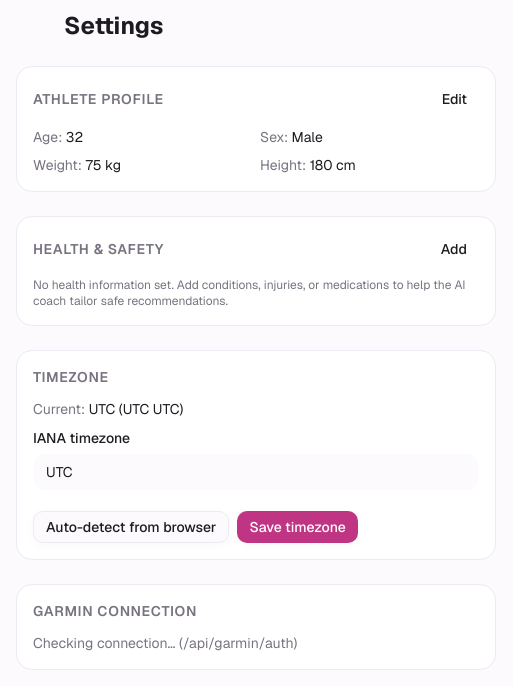
Test case: Settings timezone picker › auto-detects the browser timezone into the picker
Replace the text in the dropdown labelled "IANA timezone" with "America/New_York" at {"x": 256, "y": 472}, box top-left (33, 453), bottom-right (479, 491)
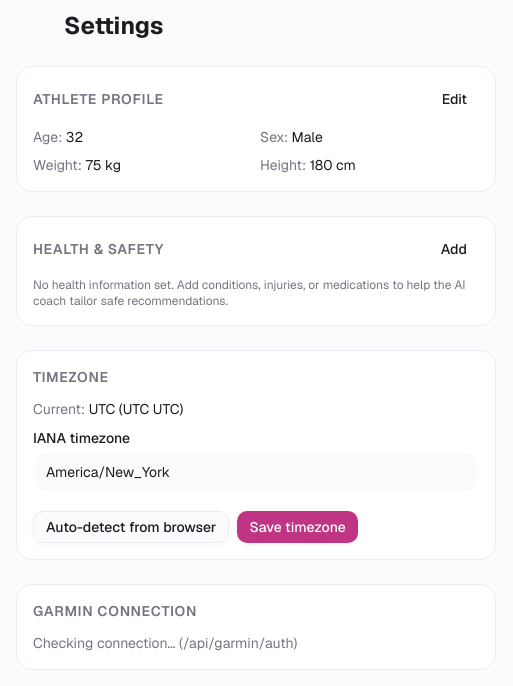
Click the button "Auto-detect from browser" at {"x": 131, "y": 527}, box top-left (33, 511), bottom-right (229, 543)
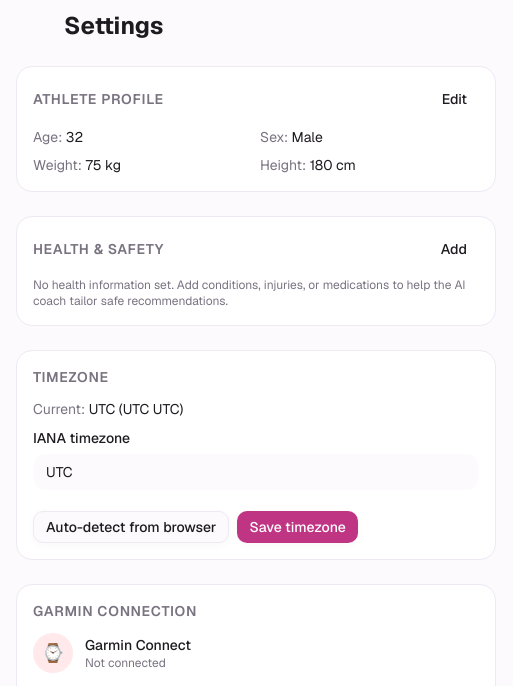
Expected: the dropdown labelled "IANA timezone" holds "UTC", top-left (33, 453), bottom-right (479, 491)
